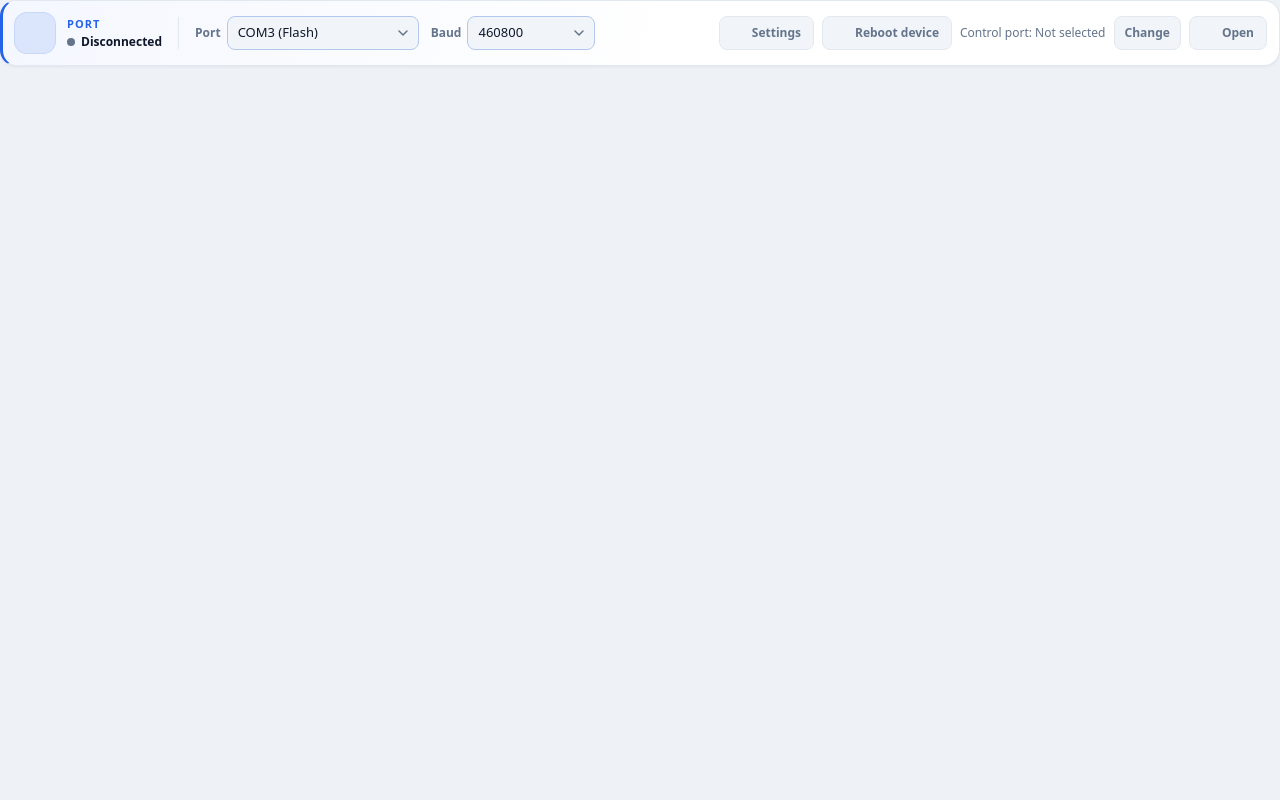
Scenario: SerialDebugConnectionBar reboot target UI › opens the reboot target dialog on the first click when no reboot target is configured
The width and height of the screenshot is (1280, 800).
Click the button with aria-label "Reboot device" at (887, 33), box [822,16,952,50]
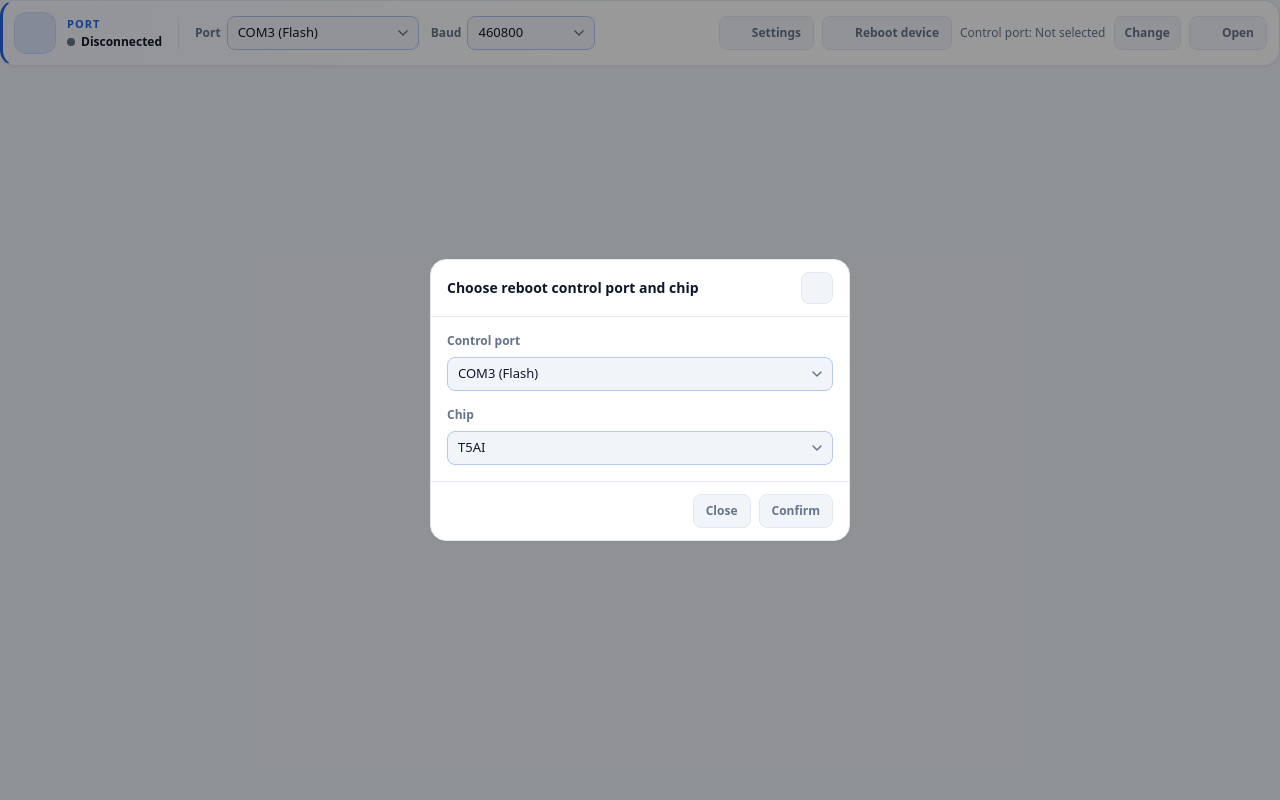
Now the text "Choose reboot control port and chip" is shown, box [447,278,699,298]
